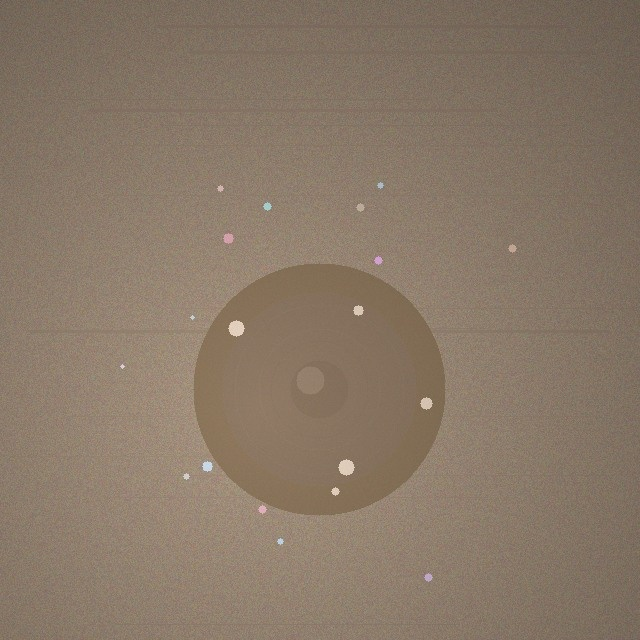overburn: (193, 263, 445, 515)
